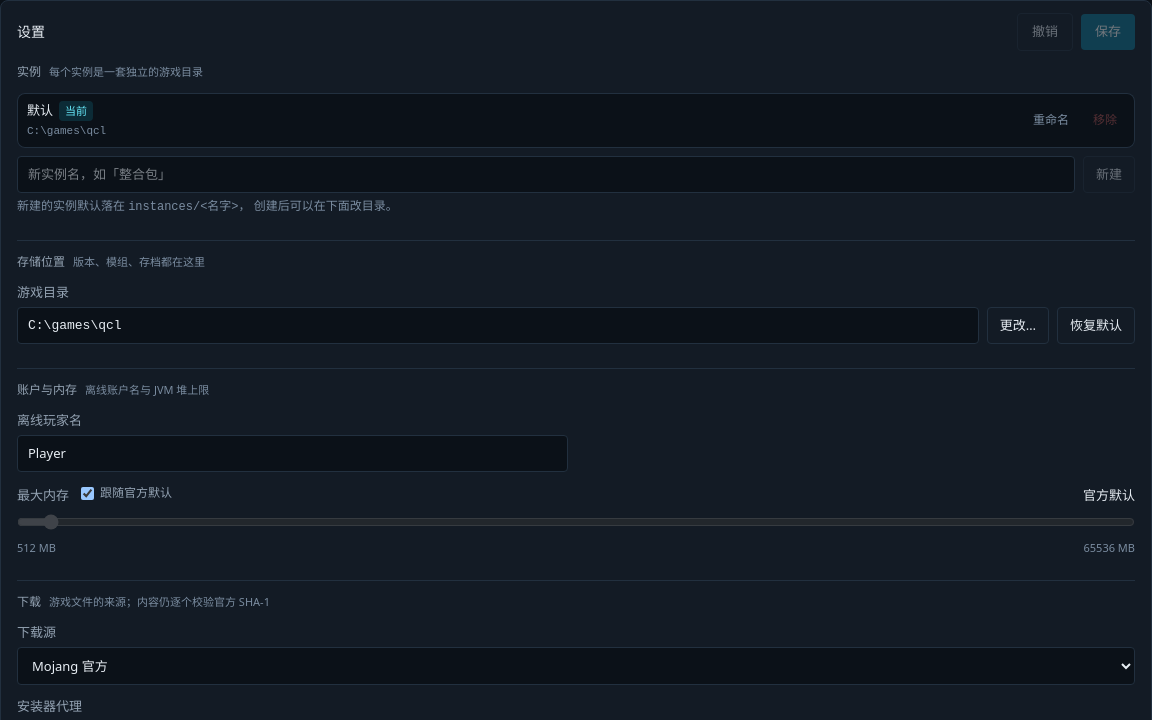
SettingsPanel › 只在选中镜像时才标注 BMCLAPI 来源
Expected: the link "BMCLAPI" is not shown
Select "BMCLAPI 镜像（国内更快）" in the dropdown labelled "下载源" at (576, 666), box [17, 646, 1135, 684]
(page scrolled)
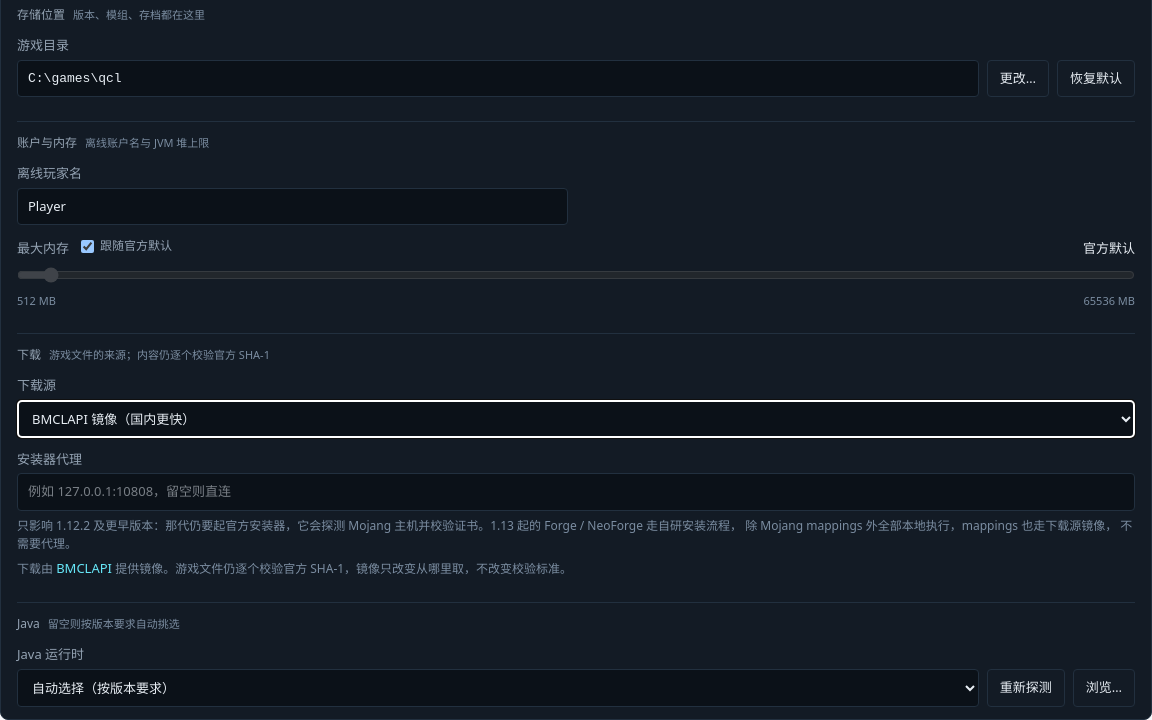
Expected: the link "BMCLAPI" is shown, [56, 558, 112, 576]
